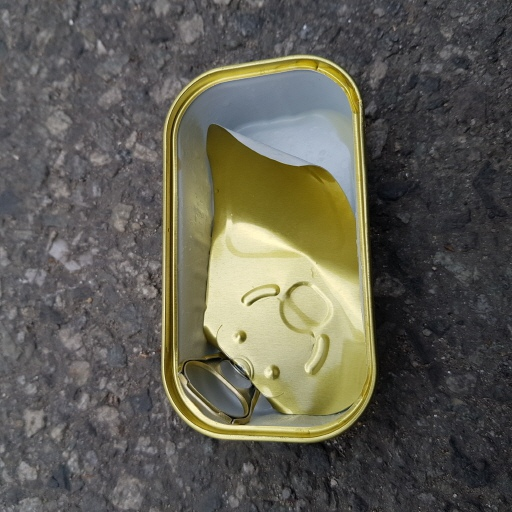Metal_2: (157, 59, 383, 447)
